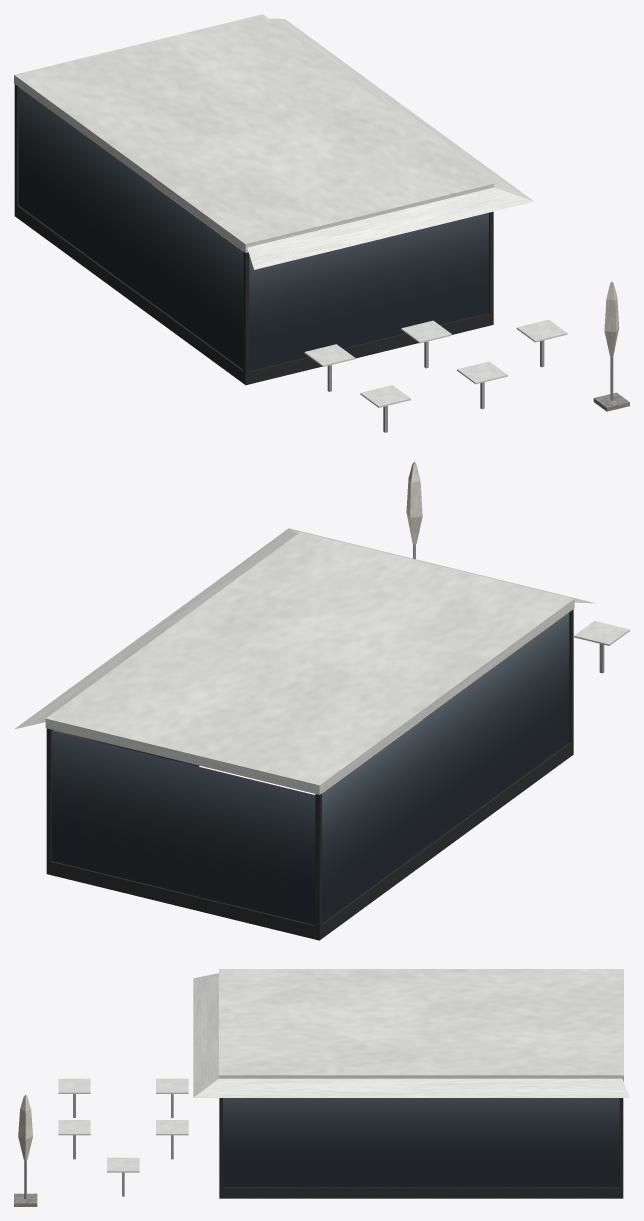
The model's file is SM_Molo_DehorsVetrato_LOD2.fbx.
The picture shows the model from 3 angles, top to bottom: view 1: azimuth 30°, elevation 25°; view 2: azimuth 150°, elevation 25°; view 3: azimuth 270°, elevation 25°; orthographic projection. The views are drawn at different scales.
Visible parts, largest first — view 1: SM_Molo_DehorsVetrato_LOD2; view 2: SM_Molo_DehorsVetrato_LOD2; view 3: SM_Molo_DehorsVetrato_LOD2.
Part boxes in pixels (bbox=[...]): SM_Molo_DehorsVetrato_LOD2: bbox=[14, 14, 629, 432]; SM_Molo_DehorsVetrato_LOD2: bbox=[14, 461, 629, 940]; SM_Molo_DehorsVetrato_LOD2: bbox=[14, 969, 629, 1206].
Bounding box in the file's own units: 608 × 1323 × 293.
Materials: 1 (1 with a texture image).
